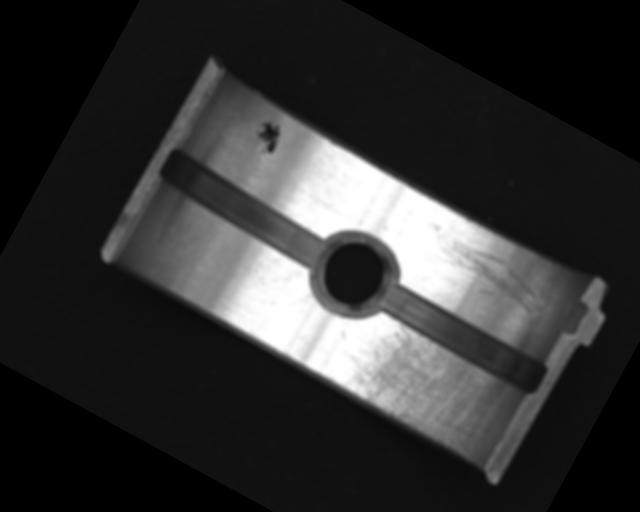blot: (246, 114, 287, 158)
gap: (147, 141, 340, 274), (372, 276, 552, 398)
hole: (300, 223, 408, 328)
nick: (410, 216, 551, 321), (275, 279, 316, 323)
scratch: (323, 302, 517, 464)
